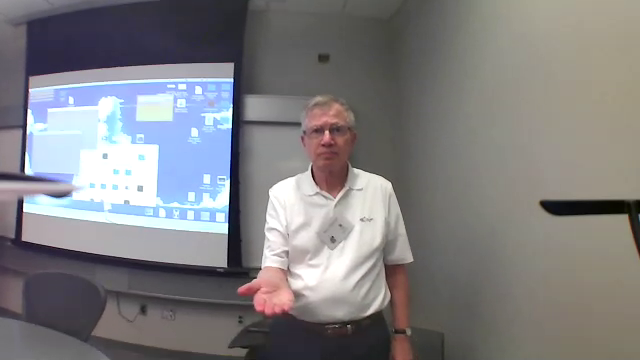land: (234, 266, 301, 319)
